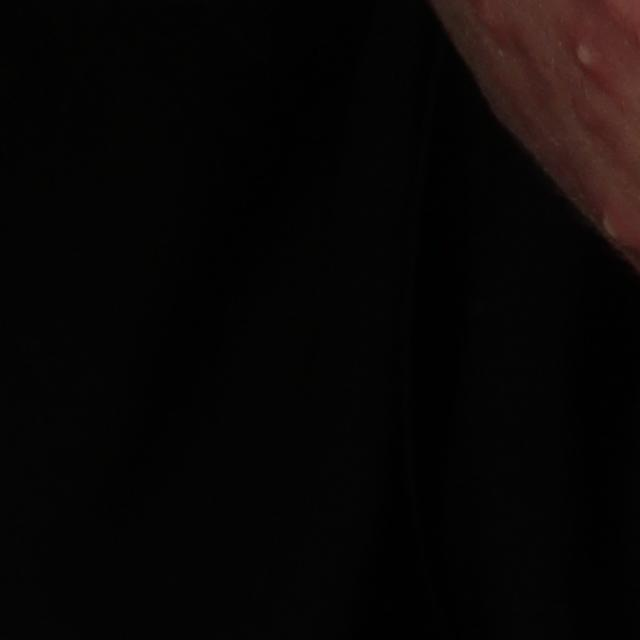pustule: (556, 29, 619, 98)
